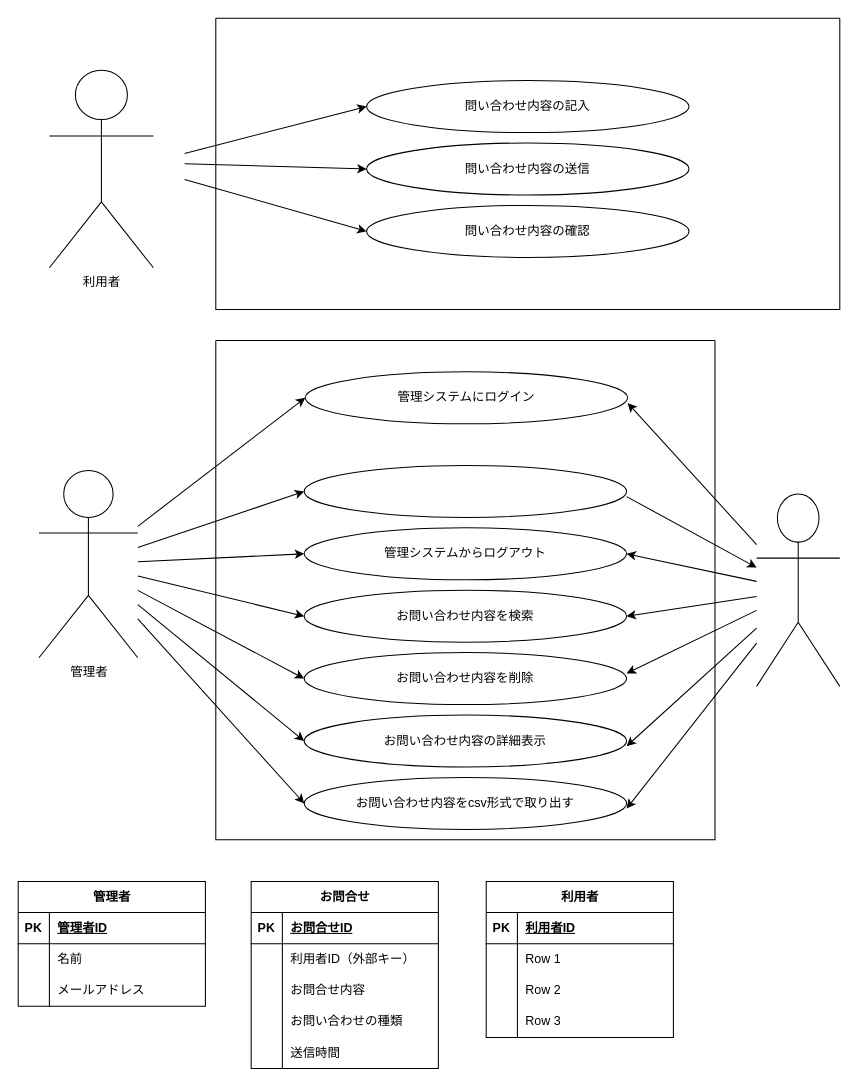
Image size: 858x1087. Some labels were removed from this diagram. The shapes that lost their labels are listed below. From the top down, each one's box as (x1, y1, x2, y2) in pixels, then its label:
(215, 17, 840, 309): 問い合わせ送信システム
(303, 464, 627, 517): 新規ユーザーの作成・登録
(215, 340, 715, 840): 問い合わせ管理システム
(756, 493, 840, 686): 新規管理者
